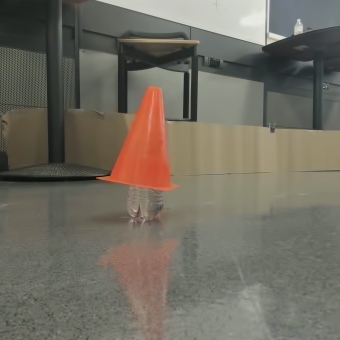Cone: (126, 80, 186, 180)
